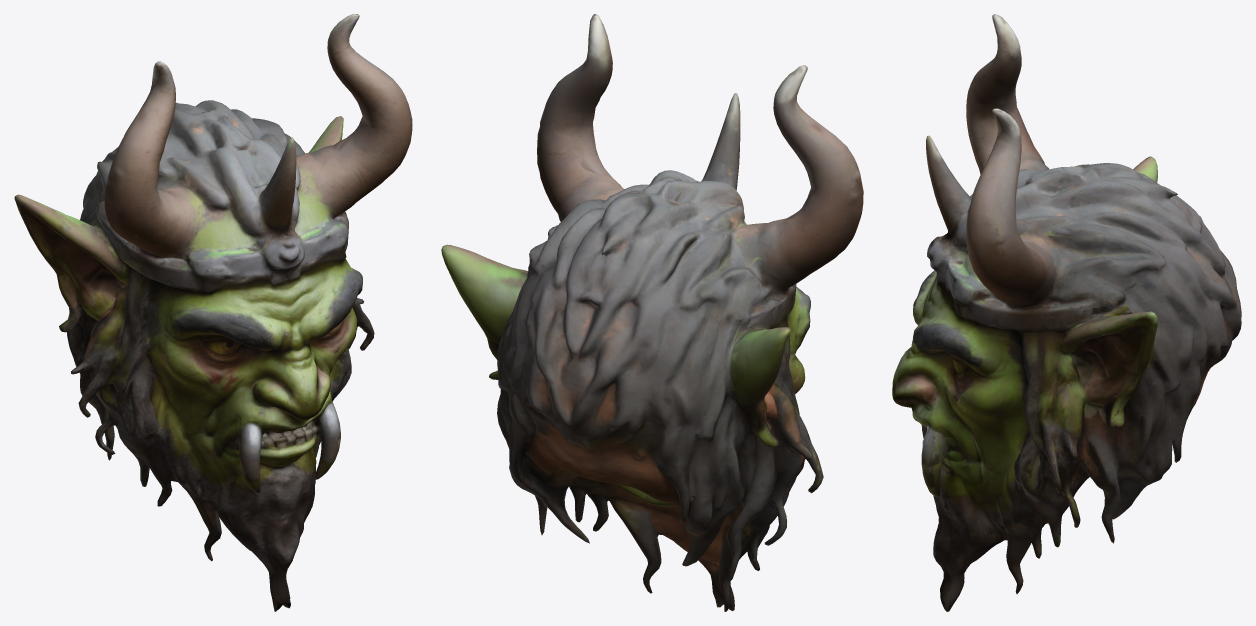
File: ork.fbx
3 renders of one model, left to right at view 1: azimuth 30°, elevation 25°; view 2: azimuth 150°, elevation 25°; view 3: azimuth 270°, elevation 25°, orthographic. The views are drawn at different scales.
Visible parts, largest first — view 1: Mesh_0; view 2: Mesh_0; view 3: Mesh_0.
Part boxes in pixels (box(x1,y1,x2,y2)): Mesh_0: box(14, 14, 412, 611); Mesh_0: box(441, 14, 863, 611); Mesh_0: box(892, 14, 1241, 611).
Bounding box in the file's own units: 123 × 199 × 116.
1 material, 1 textured.
